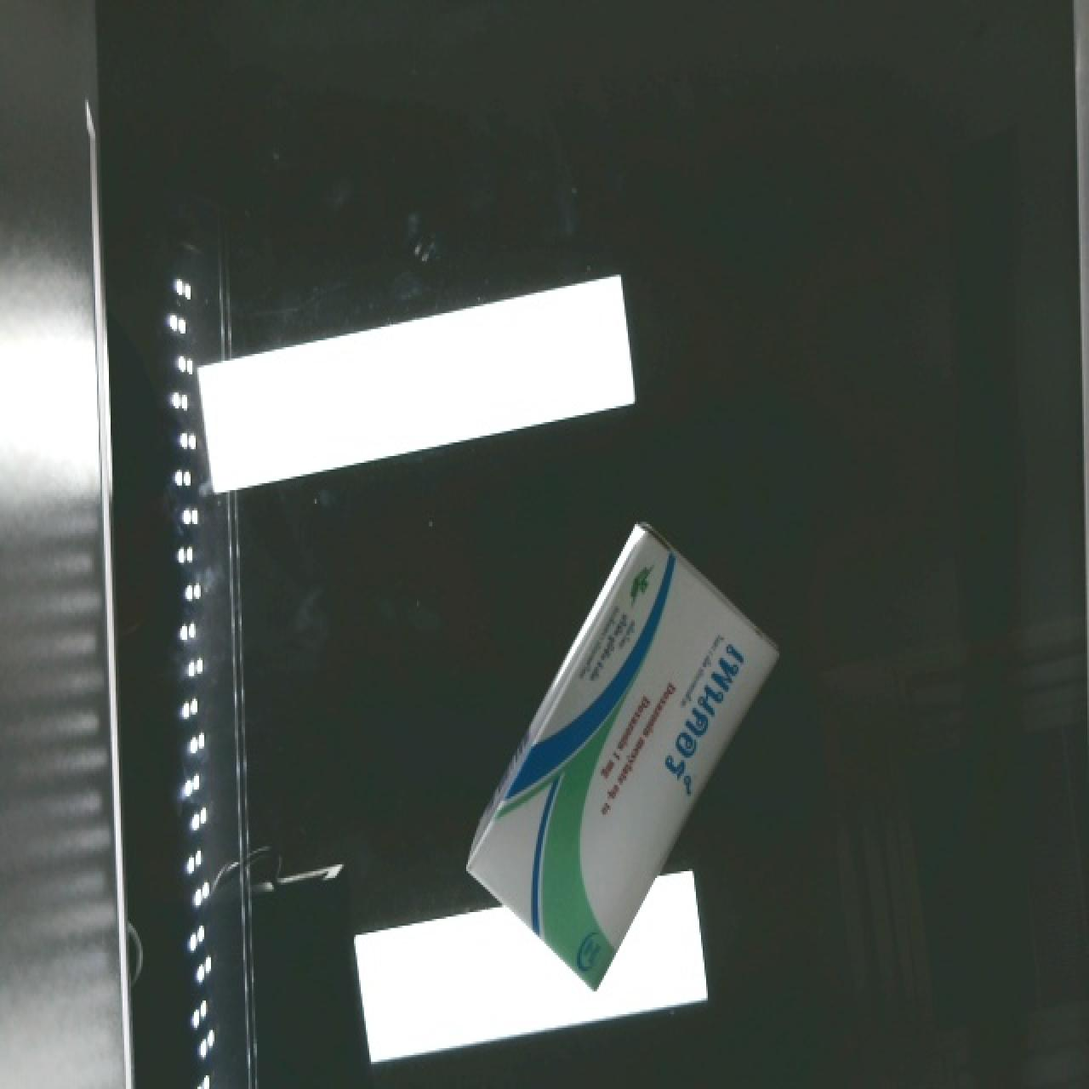medicine_label_obb: (625, 609, 780, 817)
